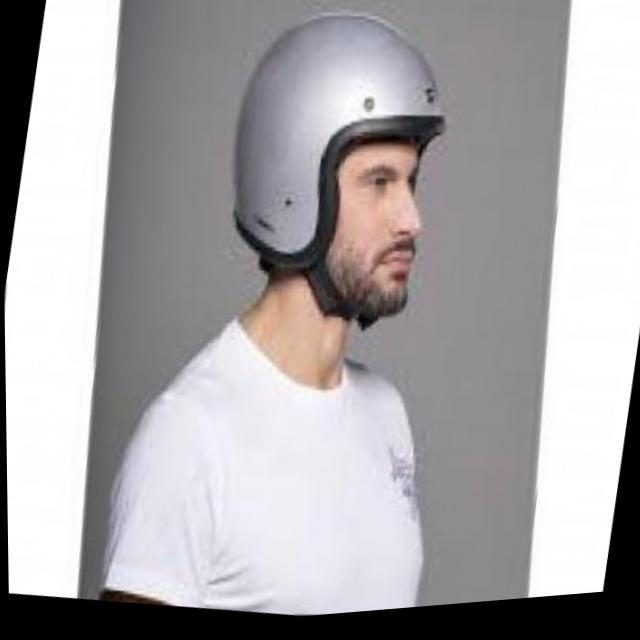Helmet: (213, 0, 470, 337)
